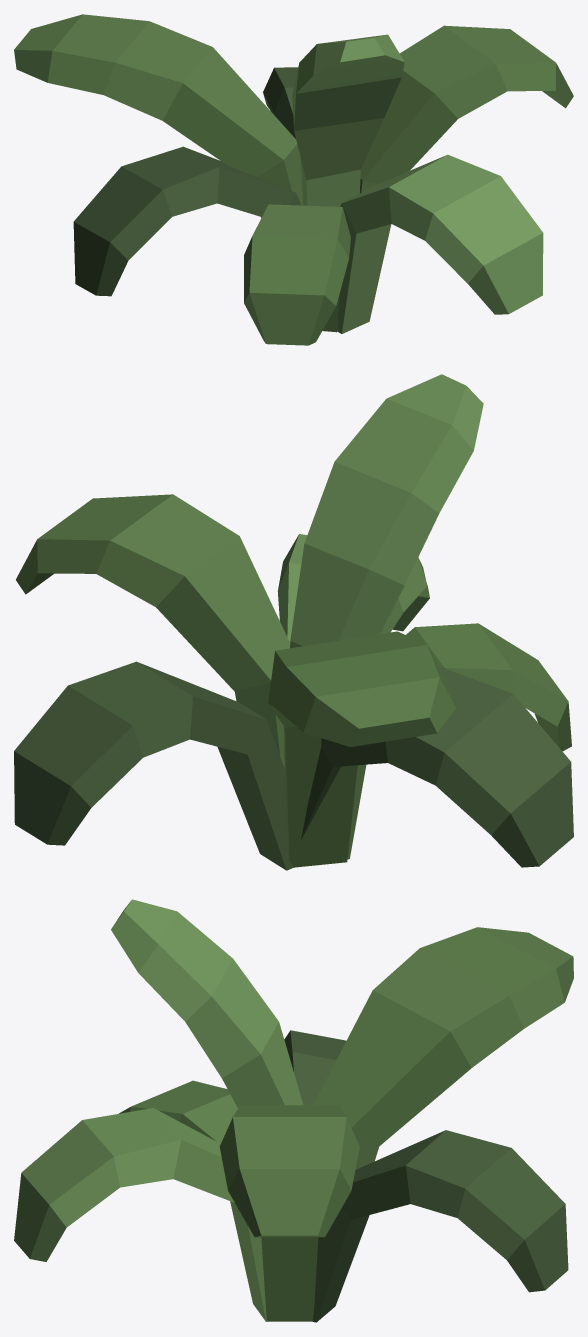
The model's file is SM_Env_Plant_Vege_01.obj.
The picture shows the model from 3 angles, top to bottom: view 1: azimuth 30°, elevation 25°; view 2: azimuth 150°, elevation 25°; view 3: azimuth 270°, elevation 25°; orthographic projection. The views are drawn at different scales.
Visible parts, largest first — view 1: SM_Env_Plant_Vege_01_0; view 2: SM_Env_Plant_Vege_01_0; view 3: SM_Env_Plant_Vege_01_0.
Boxes of the visible parts, x1,y1,x2,y2 form: SM_Env_Plant_Vege_01_0: [14, 14, 573, 345]; SM_Env_Plant_Vege_01_0: [14, 374, 573, 870]; SM_Env_Plant_Vege_01_0: [14, 899, 573, 1322].
Size of the model in its own units: 0.4003 by 0.2904 by 0.3895.
1 material, 1 textured.
